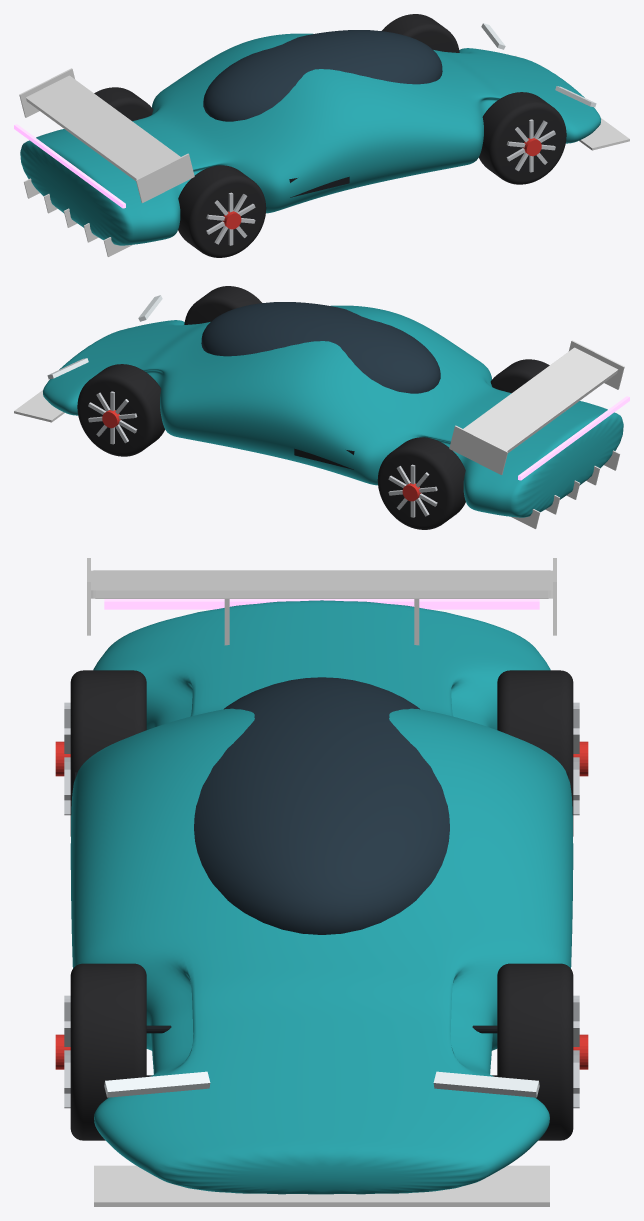
Rendered from HypercarX.fbx.
The picture shows the model from 3 angles, top to bottom: view 1: azimuth 30°, elevation 25°; view 2: azimuth 150°, elevation 25°; view 3: azimuth 270°, elevation 25°; orthographic projection. The views are drawn at different scales.
Visible parts, largest first — view 1: HX_Body, HX_Canopy, HX_Wing, HX_Tire_RR, HX_Tire_FR, HX_Tire_FL, HX_Endplate_R, HX_Tire_RL, HX_Taillight, HX_Splitter, HX_Endplate_L; view 2: HX_Body, HX_Canopy, HX_Wing, HX_Tire_RL, HX_Tire_FL, HX_Tire_FR, HX_Endplate_L, HX_Tire_RR, HX_Taillight, HX_Splitter, HX_Endplate_R; view 3: HX_Body, HX_Canopy, HX_Wing, HX_Tire_FL, HX_Tire_FR, HX_Splitter, HX_Tire_RR, HX_Tire_RL, HX_Taillight, HX_Headlight_-1, HX_Headlight_1.
Boxes of the visible parts, x1,y1,x2,y2 form: HX_Body: (20,33,600,245); HX_Canopy: (203,30,442,121); HX_Wing: (25,75,180,180); HX_Tire_RR: (178,165,266,257); HX_Tire_FR: (479,92,566,184); HX_Tire_FL: (381,14,459,52); HX_Endplate_R: (136,153,194,202); HX_Tire_RL: (94,87,153,121); HX_Taillight: (14,124,125,208); HX_Splitter: (515,55,629,150); HX_Endplate_L: (19,68,75,117); HX_Body: (43,305,623,517); HX_Canopy: (201,302,440,393); HX_Wing: (463,347,618,452); HX_Tire_RL: (377,437,465,529); HX_Tire_FL: (77,364,164,456); HX_Tire_FR: (184,286,262,324); HX_Endplate_L: (449,425,507,474); HX_Tire_RR: (490,359,549,393); HX_Taillight: (518,396,629,480); HX_Splitter: (14,327,128,422); HX_Endplate_R: (568,340,624,389); HX_Body: (70,600,573,1194); HX_Canopy: (194,677,449,934); HX_Wing: (91,570,552,598); HX_Tire_FL: (497,963,573,1140); HX_Tire_FR: (70,963,146,1140); HX_Splitter: (94,1165,549,1206); HX_Tire_RR: (70,670,146,836); HX_Tire_RL: (497,670,573,836); HX_Taillight: (104,599,539,609); HX_Headlight_-1: (104,1071,210,1097); HX_Headlight_1: (433,1071,539,1097).
Size of the model in its own units: 4.71 by 1.14 by 2.14.
